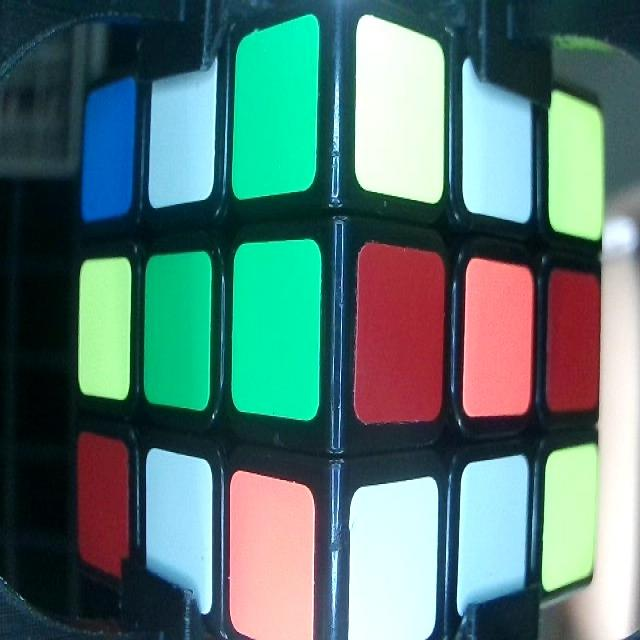b: (82, 86, 136, 218)
g: (232, 244, 321, 419), (237, 29, 314, 198), (146, 258, 207, 411)
o: (230, 471, 312, 640), (467, 256, 532, 414)
r: (358, 245, 444, 422), (550, 272, 599, 411), (76, 440, 125, 568)
w: (352, 486, 436, 636), (459, 464, 533, 616), (464, 67, 533, 223), (146, 448, 208, 606), (152, 60, 213, 206)
y: (359, 22, 443, 199), (552, 94, 602, 239), (546, 450, 596, 588), (79, 260, 128, 398)
